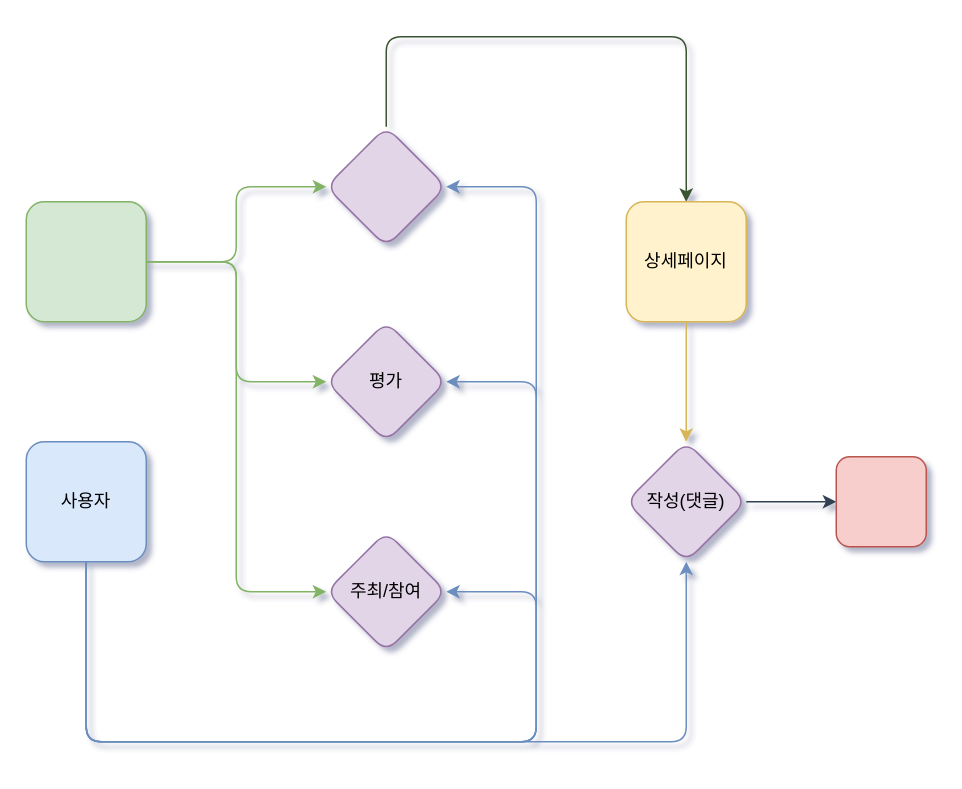
The diagram is 962 pixels wide and 789 high, and some of its shapes have lost their labels. The shapes that lost their labels are listed below. From the top down, each one's centre as x and y in pixels, then its label:
At point (385, 186): "작성(게시글)".
At point (85, 261): "모임".
At point (880, 501): "댓글".
